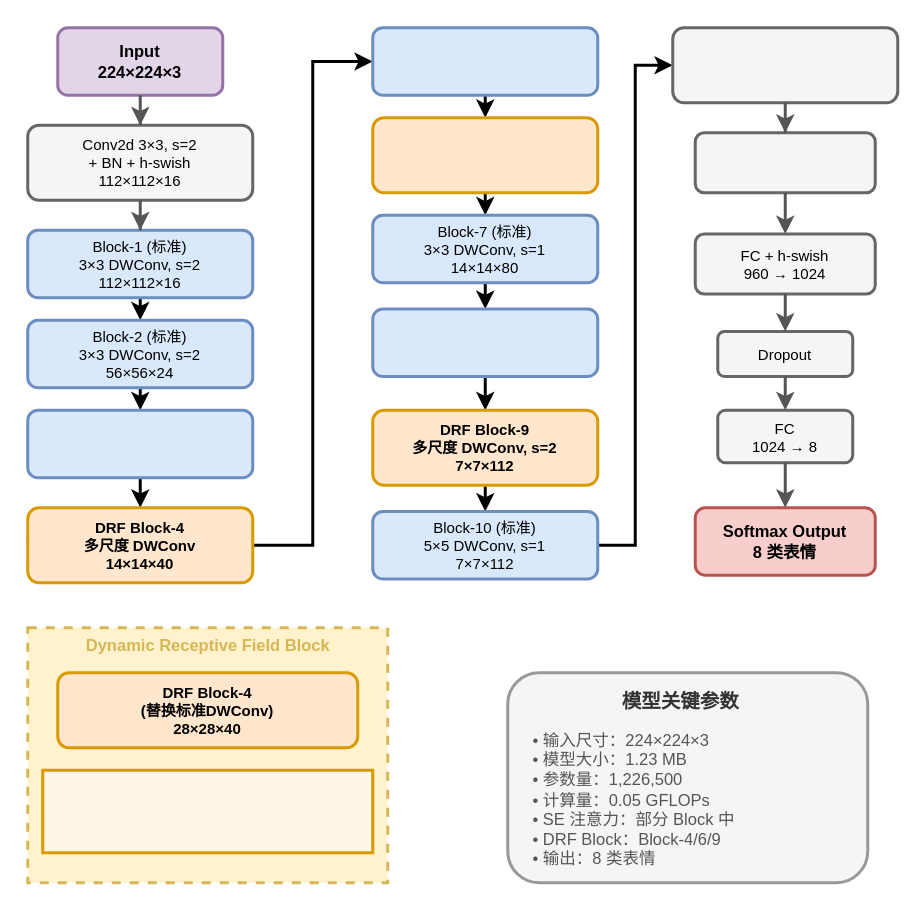
Some shapes in this 924 by 909 pixel diagram are drawn without their labels. Each missing label, with the box of its shape:
Block-3 (标准) 3×3 DWConv, s=2 28×28×24: (26, 408, 254, 478)
Block-5 (标准) 3×3 DWConv, s=1 14×14×40: (370, 26, 598, 96)
Block-8 (标准) 3×3 DWConv, s=1 14×14×80: (370, 307, 598, 377)
Conv2d 1×1 + BN + h-swish 7×7×960: (670, 26, 898, 104)
DRF Block-6 多尺度 DWConv, s=2 14×14×80: (370, 116, 598, 194)
Global Avg Pool 1×1×960: (693, 130, 876, 194)
并行 3×3 & 5×5 DWConv + 自适应权重融合 (GAP→FC→Softmax→Weighted Sum): (40, 768, 374, 854)
